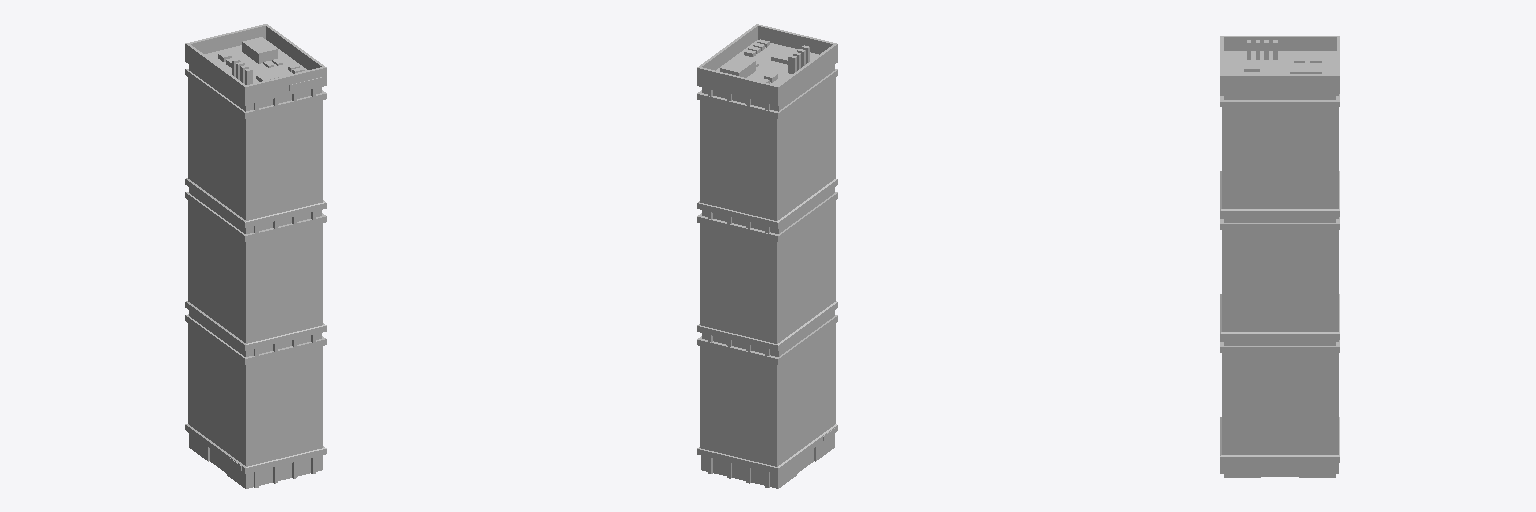
The model's file is Building_02.obj.
3 views of the same model, side by side, from view 1: azimuth 30°, elevation 25°; view 2: azimuth 150°, elevation 25°; view 3: azimuth 270°, elevation 25° (orthographic).
Parts seen in each view (by area): view 1: Building_02.001; view 2: Building_02.001; view 3: Building_02.001.
Part boxes in pixels (x1,y1,x2,y2): Building_02.001: (185,24,326,488); Building_02.001: (697,24,837,488); Building_02.001: (1220,36,1339,477).
Bounding box in the file's own units: 6.54 × 31 × 8.33.